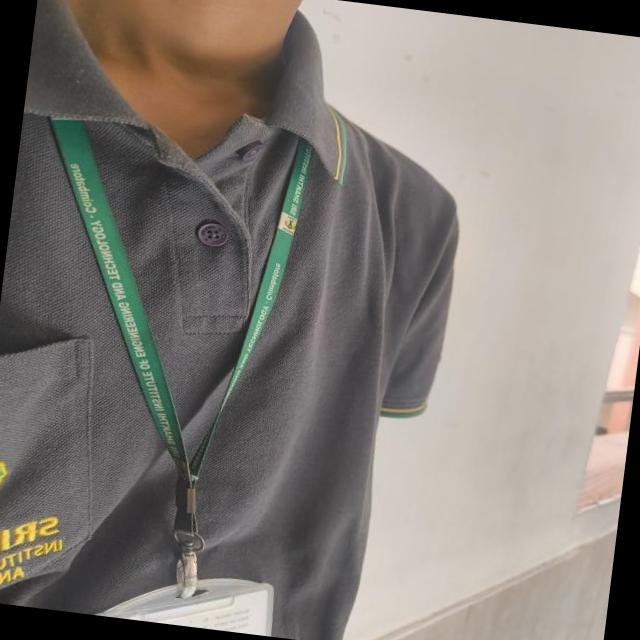id_card: (0, 110, 321, 635)
